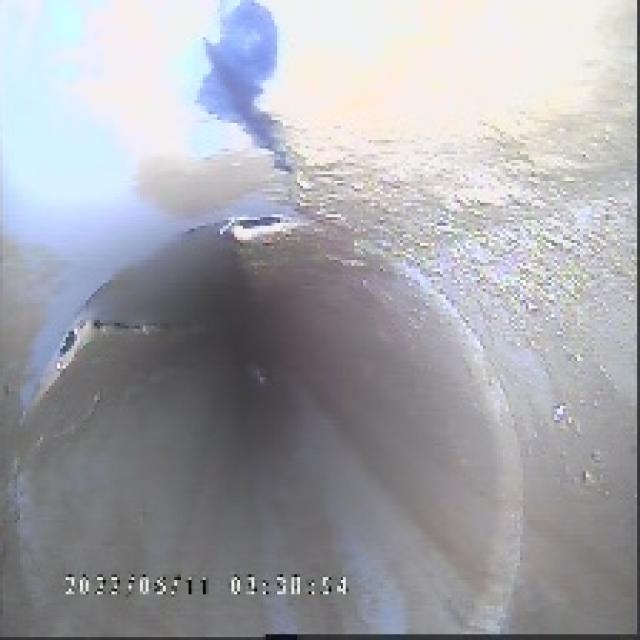pipe_surface_damage: (23, 206, 337, 380)
